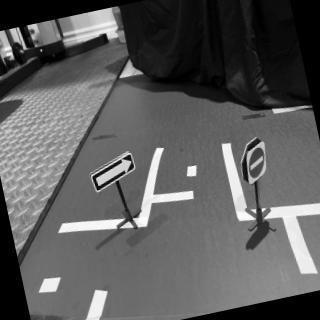sign_noentry: (240, 139, 273, 187)
sign_oneway_right: (87, 148, 142, 196)
